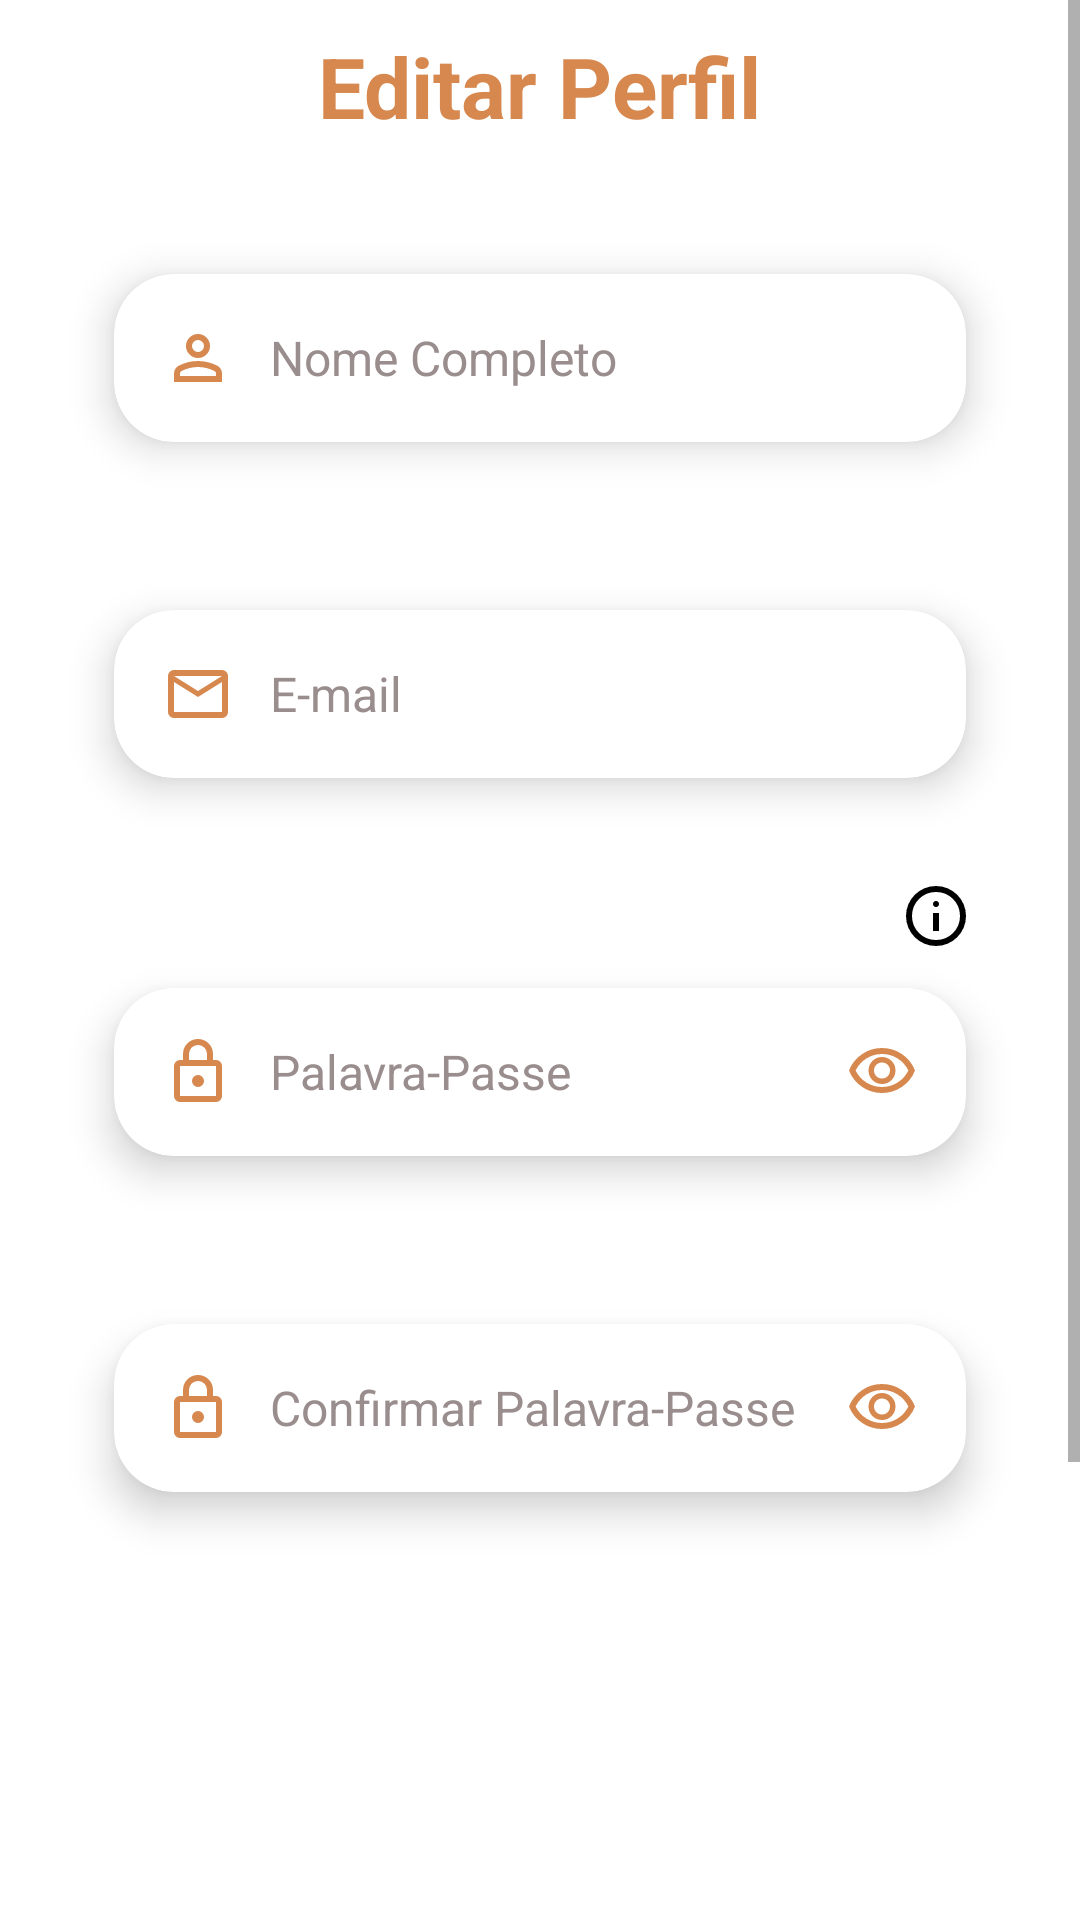

Named icons in this screenshot (1080w x 1920h) and their centers, point (x, y):
info: point (936, 916)
lock: point (198, 1070), point (198, 1406)
person: point (198, 358)
Toggle password visibility: point (882, 1070), point (882, 1406)
